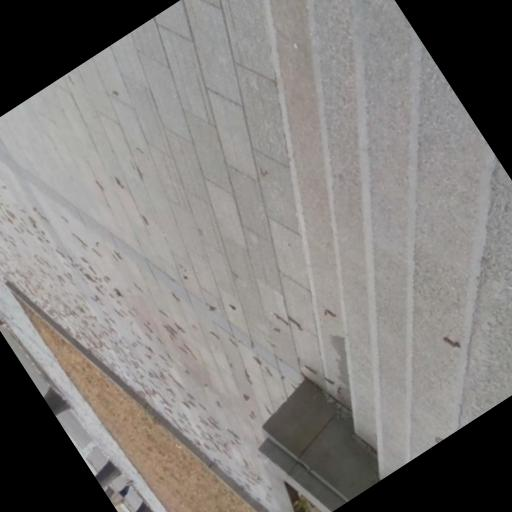stairs: (269, 0, 494, 478)
